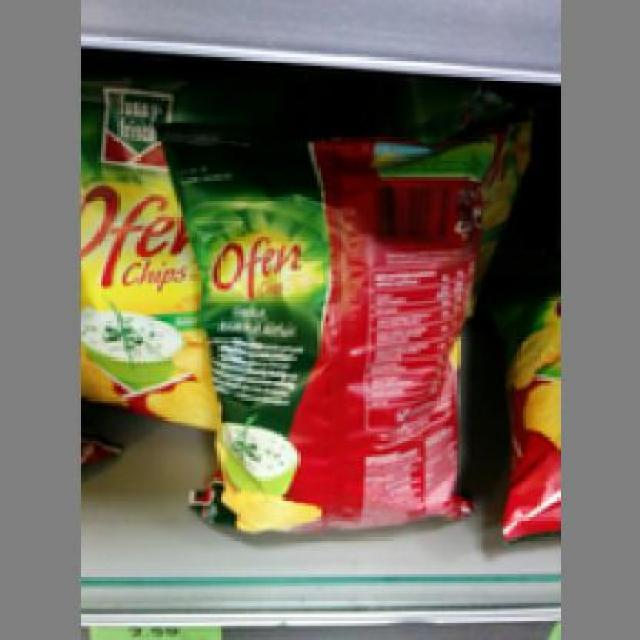Chips: (182, 122, 478, 535)
